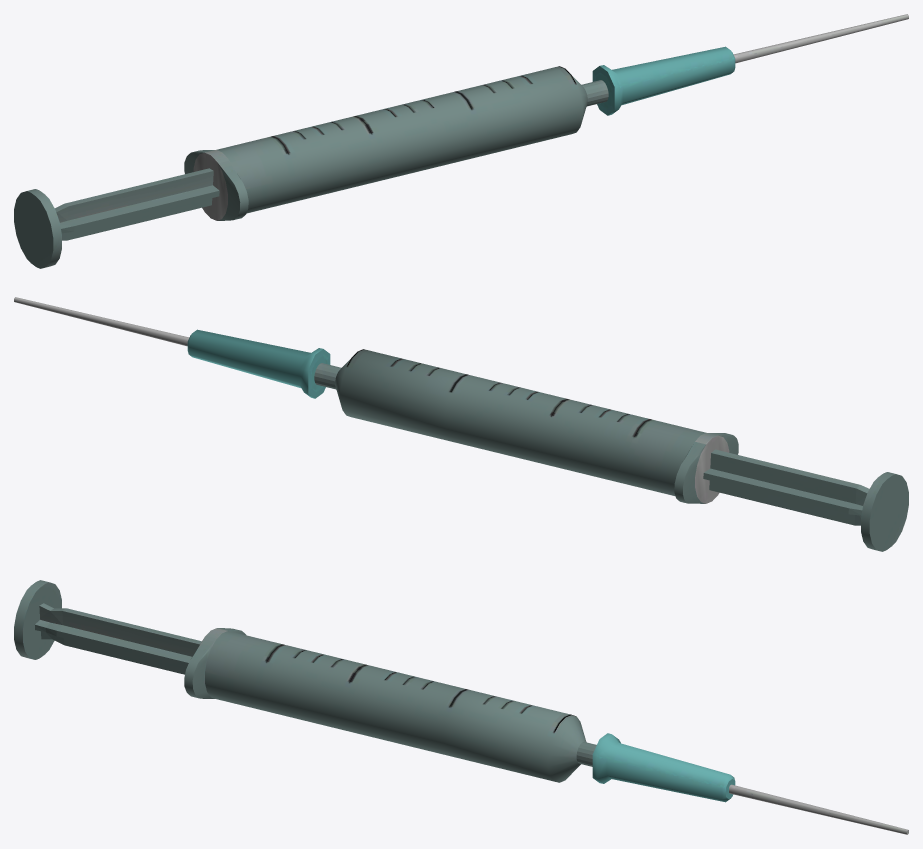
Rendered from 00_03_syringe_needle.DAE.
The picture shows the model from 3 angles, top to bottom: view 1: azimuth 30°, elevation 25°; view 2: azimuth 150°, elevation 25°; view 3: azimuth 330°, elevation 25°; orthographic projection.
Parts seen in each view (by area): view 1: Cylinder001, Object003, Object002; view 2: Cylinder001, Object003, Object002; view 3: Cylinder001, Object003, Object002.
Boxes of the visible parts, x1=… form: Cylinder001: x1=184, y1=66, x2=608, y2=220; Object003: x1=14, y1=168, x2=219, y2=268; Object002: x1=592, y1=14, x2=908, y2=115; Cylinder001: x1=314, y1=349, x2=738, y2=503; Object003: x1=703, y1=449, x2=908, y2=551; Object002: x1=14, y1=297, x2=330, y2=398; Cylinder001: x1=184, y1=628, x2=596, y2=782; Object003: x1=14, y1=580, x2=201, y2=674; Object002: x1=592, y1=733, x2=908, y2=834.
Bounding box in the file's own units: 0.2279 × 0.0176 × 0.0253.
